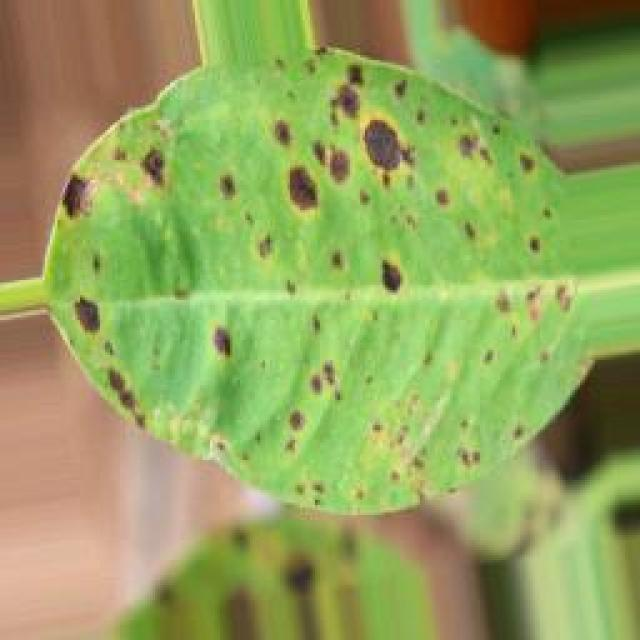Yellowish: (4, 0, 612, 524)
